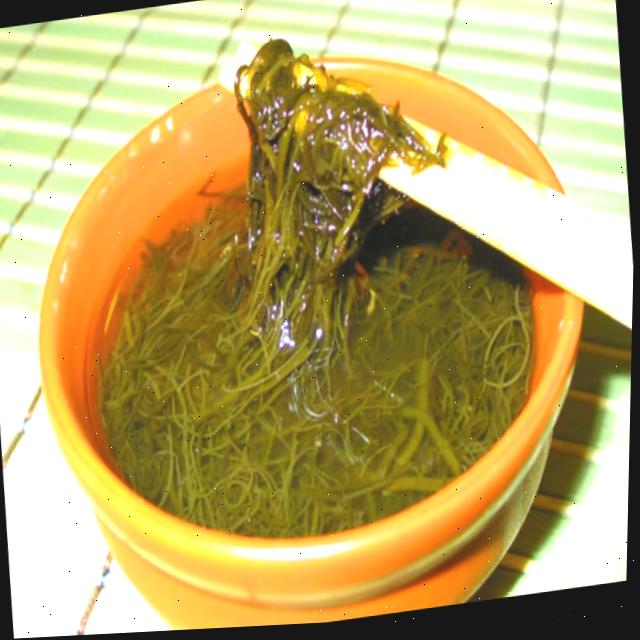蔬菜料理: (33, 45, 584, 600)
